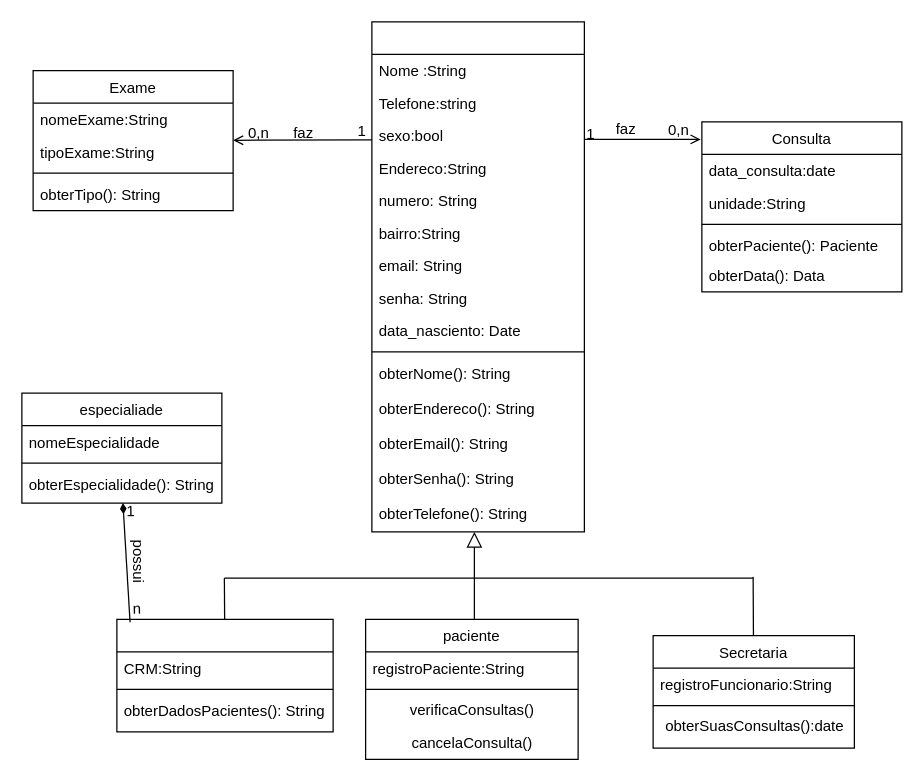
The diagram is 924 pixels wide and 781 high, and some of its shapes have lost their labels. The box of each missing label's shape, as (x1, y1, x2, y2) in pixels:
Medico: (116, 618, 333, 732)
Pessoa: (371, 21, 584, 532)
